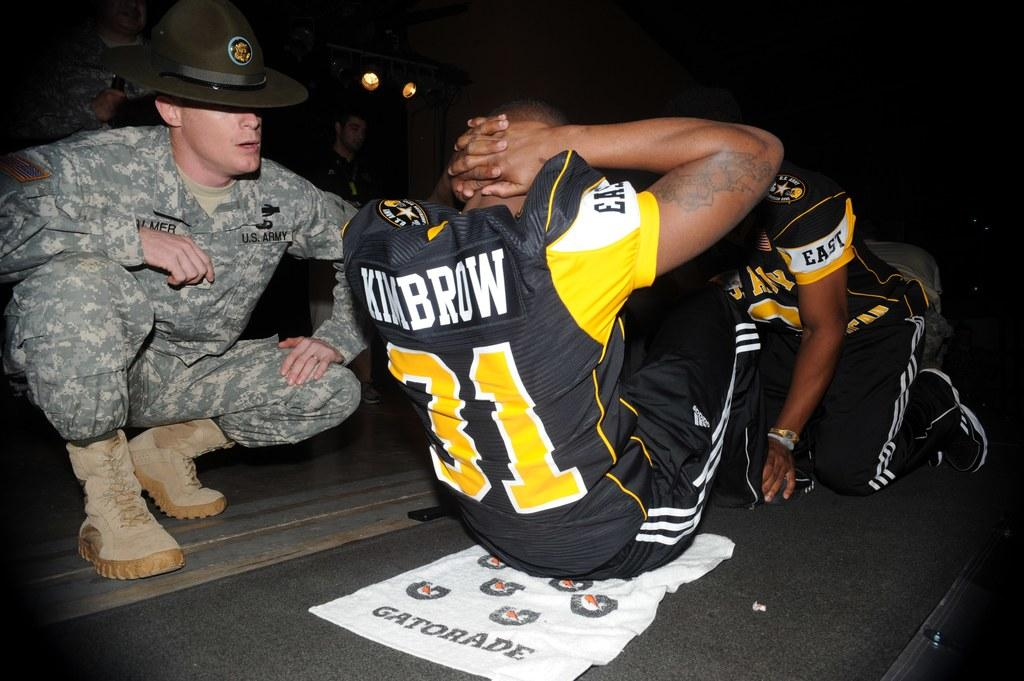Hat: (112, 0, 310, 115)
